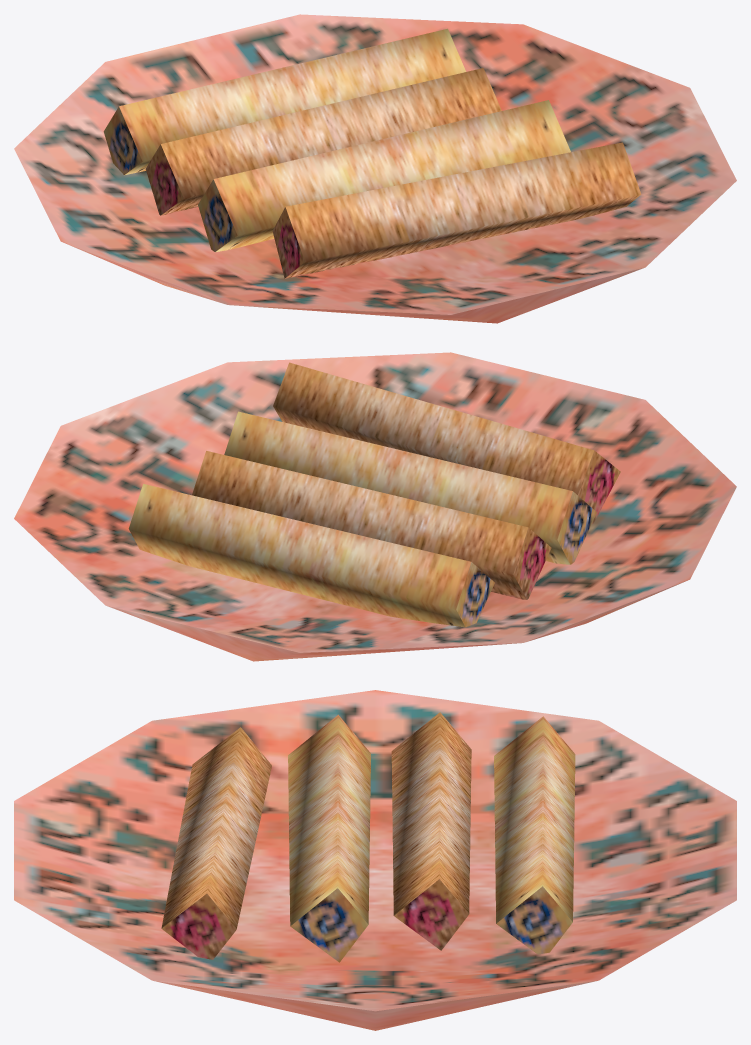
File: edb_dish_crispic_l1.fbx
3 views of the same model, one above another, from view 1: azimuth 30°, elevation 25°; view 2: azimuth 150°, elevation 25°; view 3: azimuth 270°, elevation 25° (orthographic). The views are drawn at different scales.
Parts seen in each view (by area): view 1: mesh_node; view 2: mesh_node; view 3: mesh_node.
Part boxes in pixels (box(x1,y1,x2,y2)): mesh_node: box(14, 14, 736, 323); mesh_node: box(14, 352, 736, 661); mesh_node: box(14, 690, 736, 1030).
Bounding box in the file's own units: 0.4213 × 0.0719 × 0.4007.
1 material, 1 textured.
